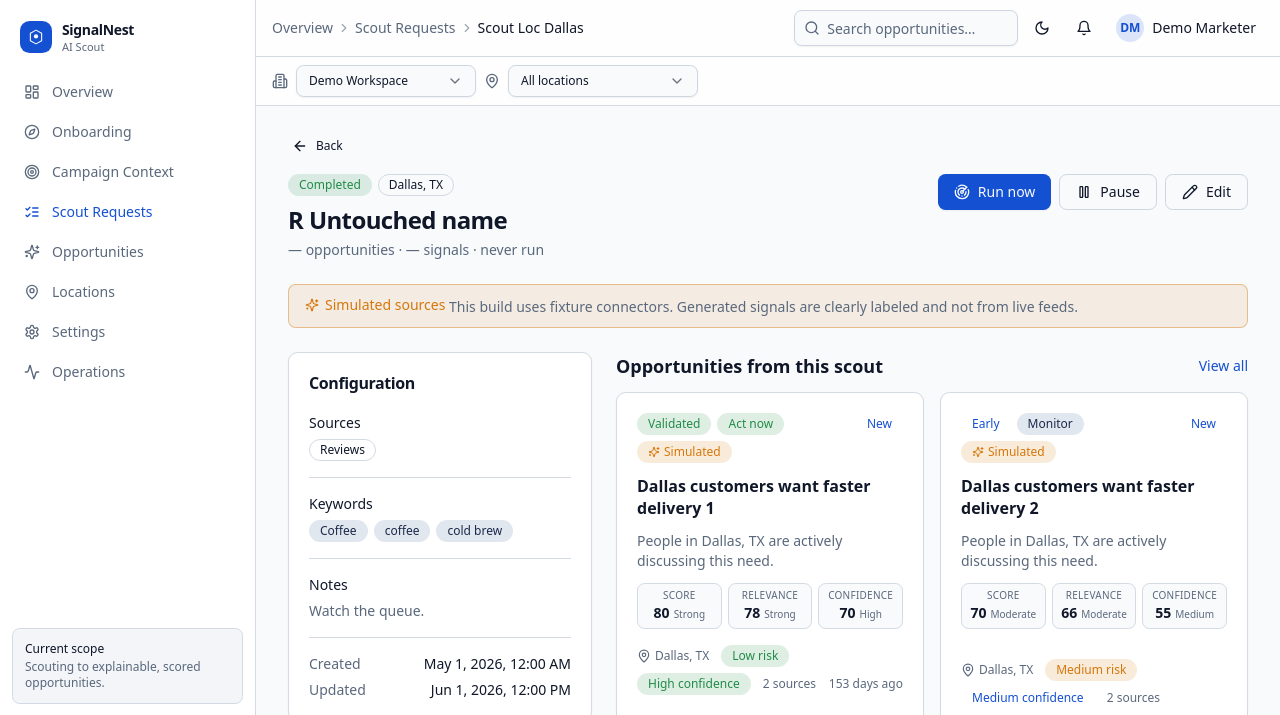
the pages (W16 §A–§E) › an untouched edit form cannot be saved, even for a Scout stored with untrimmed text (review r1 F2)
Click the button "Edit".
click(1206, 192)  # box [1165,174,1248,210]
(page scrolled)
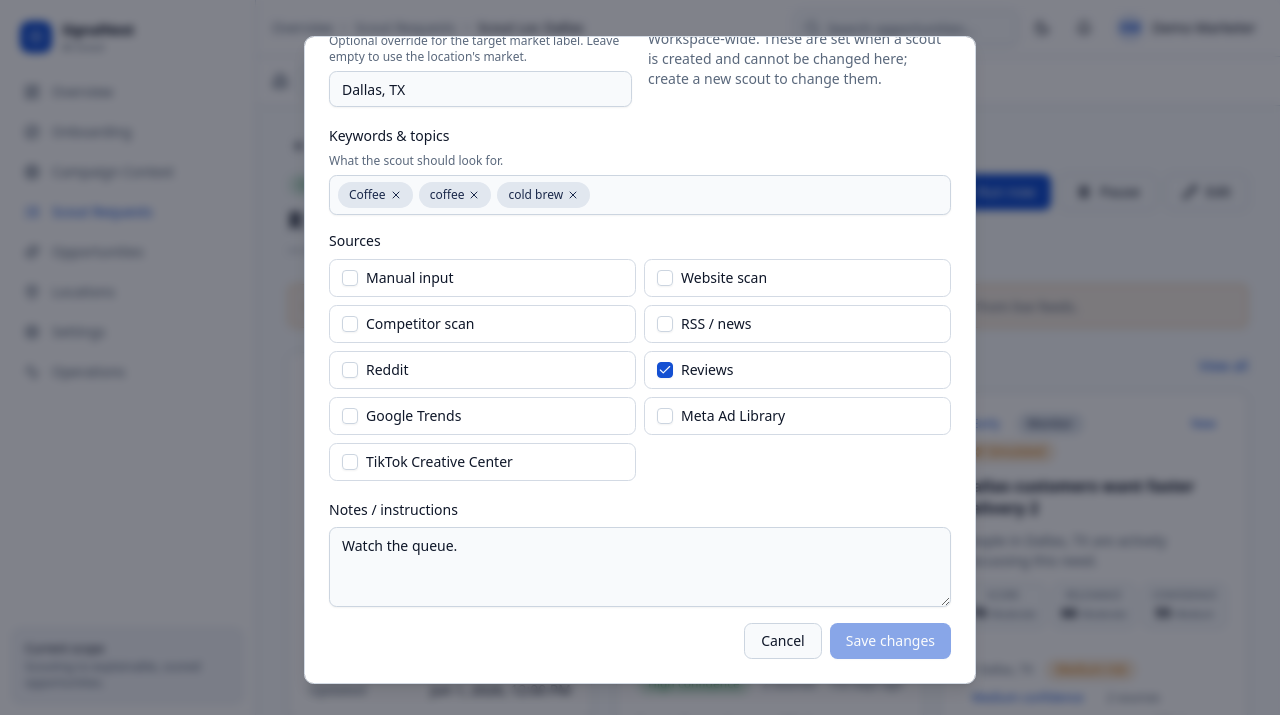
Check: the button "Save changes" is disabled, box [830,623,951,659]
